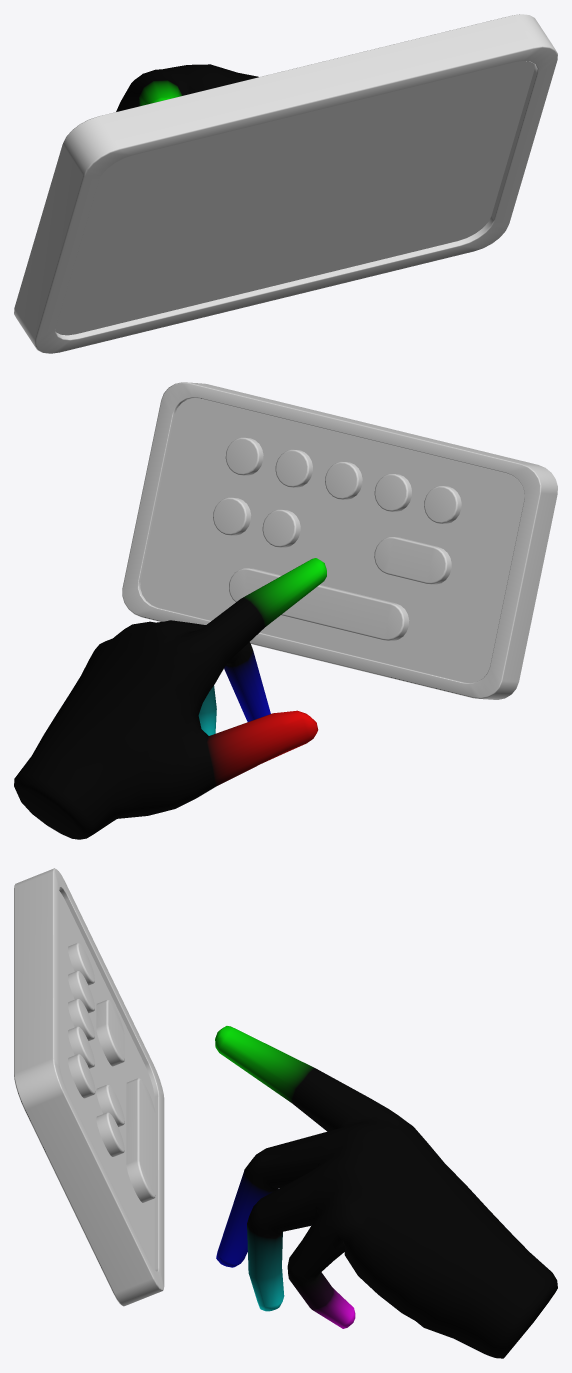
The model's file is Button_Typing.fbx.
3 views of the same model, one above another, from view 1: azimuth 30°, elevation 25°; view 2: azimuth 150°, elevation 25°; view 3: azimuth 270°, elevation 25° (orthographic). The views are drawn at different scales.
Parts seen in each view (by area): view 1: Button_Typing_BG, Button_Typing_Frame, Button_Typing_Hand; view 2: Button_Typing_BG, Button_Typing_Hand, Button_Typing_Frame, Button_Typing_Keys; view 3: Button_Typing_Hand, Button_Typing_Frame, Button_Typing_Keys, Button_Typing_BG.
Part boxes in pixels (x1,y1,x2,y2): Button_Typing_BG: (55,61,534,335); Button_Typing_Frame: (14,14,557,353); Button_Typing_Hand: (116,64,258,111); Button_Typing_BG: (140,398,524,683); Button_Typing_Hand: (14,558,326,839); Button_Typing_Frame: (122,382,557,699); Button_Typing_Keys: (213,437,461,640); Button_Typing_Hand: (215,1026,557,1358); Button_Typing_Frame: (14,868,164,1306); Button_Typing_Keys: (68,943,155,1202); Button_Typing_BG: (59,891,154,1268).
Size of the model in its own units: 3.23 by 2.35 by 3.47.
